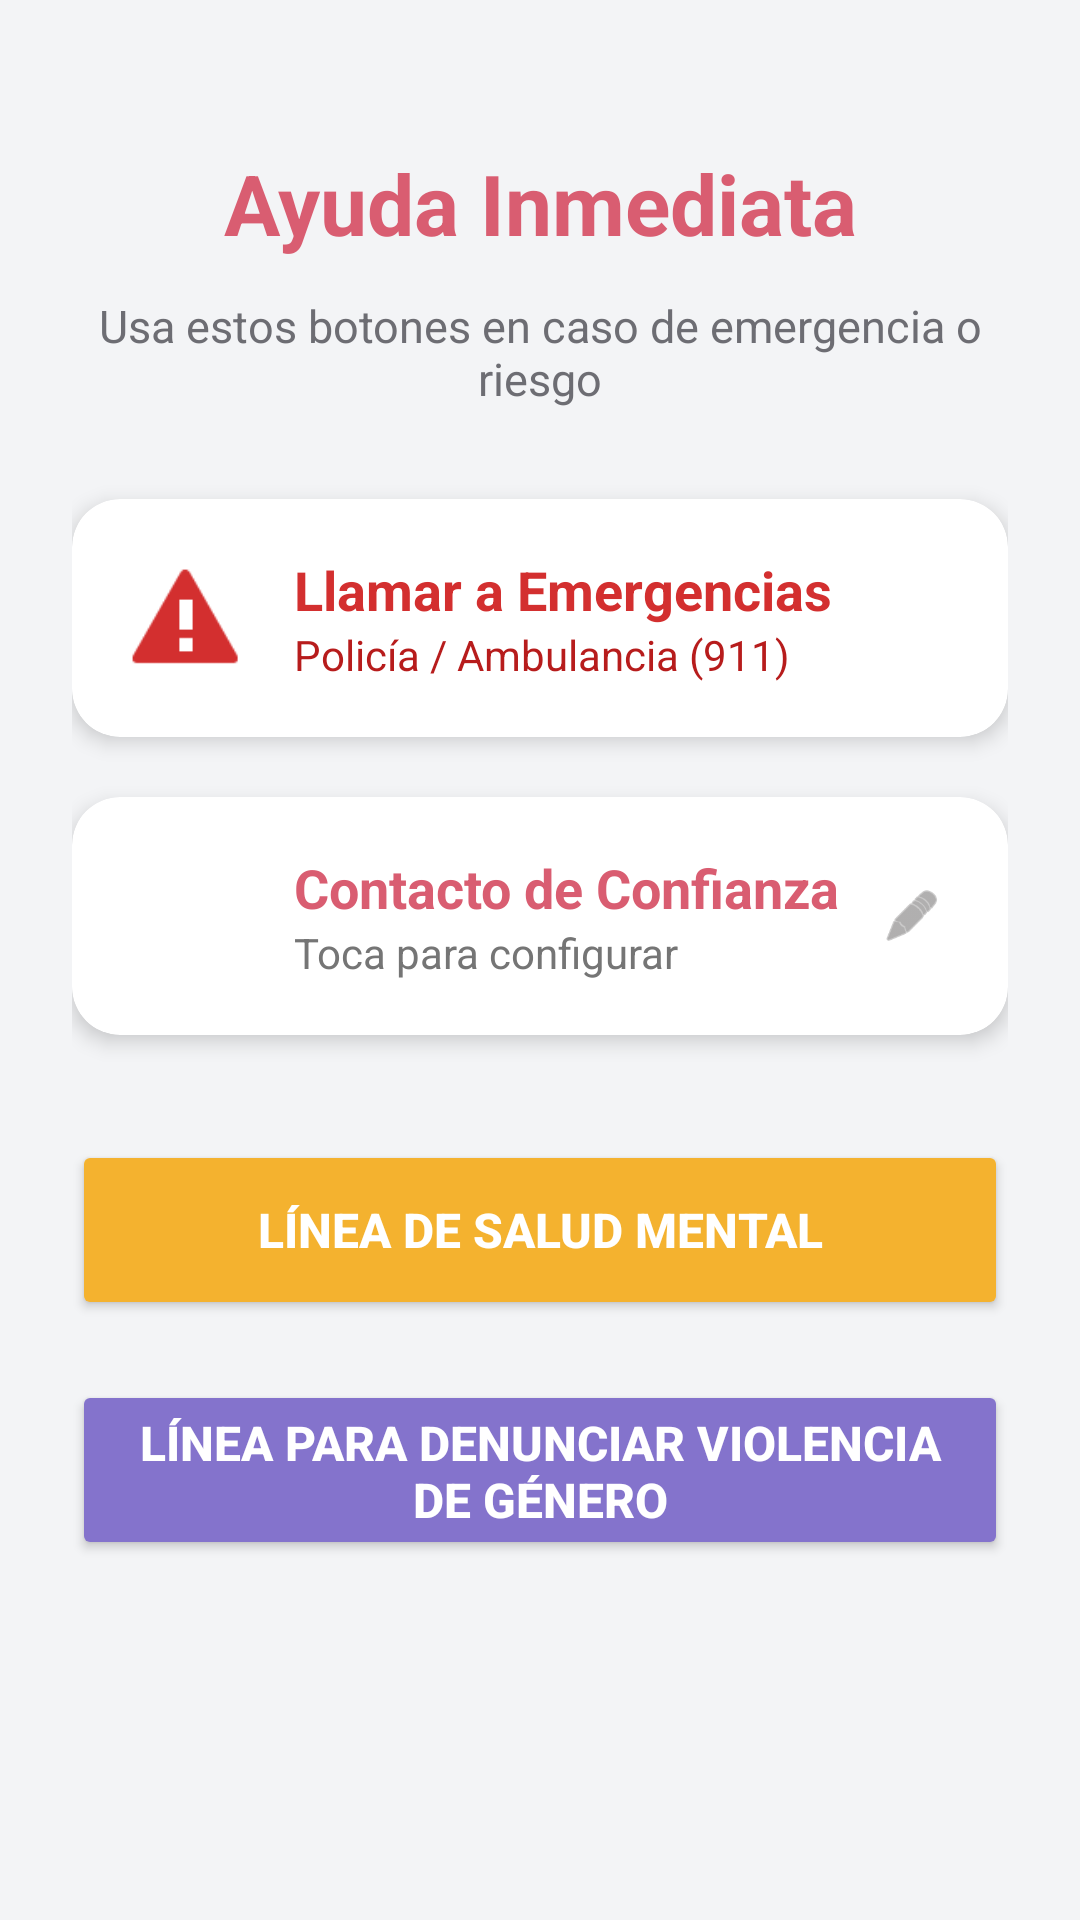

Named icons in this screenshot (1080w x 1920h) and their bounding boxes, (x1, y1, x2, y2):
edit: (887, 890, 937, 941)
warning: (132, 569, 238, 664)
